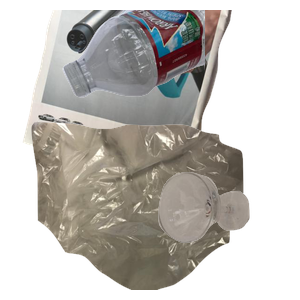glass: (156, 170, 300, 300)
paper: (20, 10, 244, 190)
plastic: (60, 10, 300, 100)
trash: (29, 120, 265, 300)
